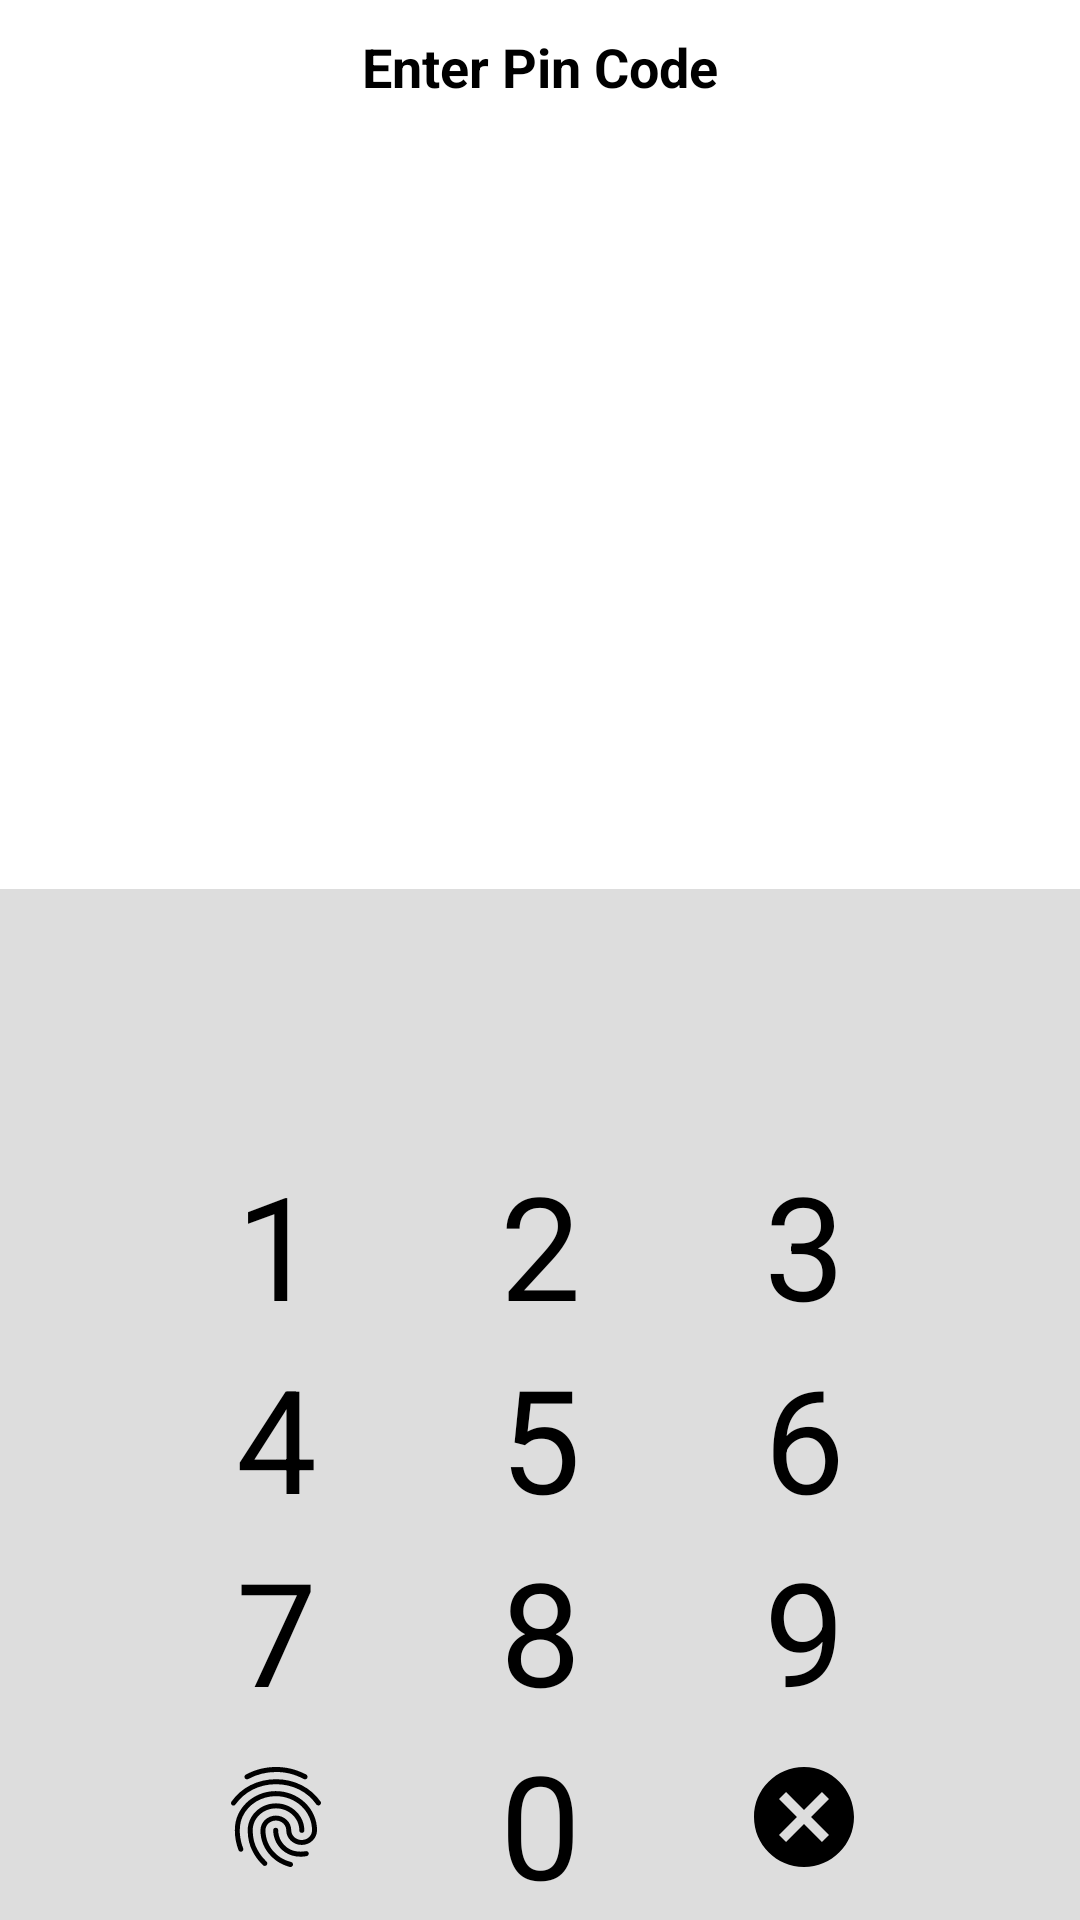

Locate icon controls on the screen. Image size 1080 × 1920, boxes as bbox=(x1, y1, x2, y2).
cancel: bbox=(754, 1767, 854, 1867)
fingerprint: bbox=(231, 1767, 321, 1867)
